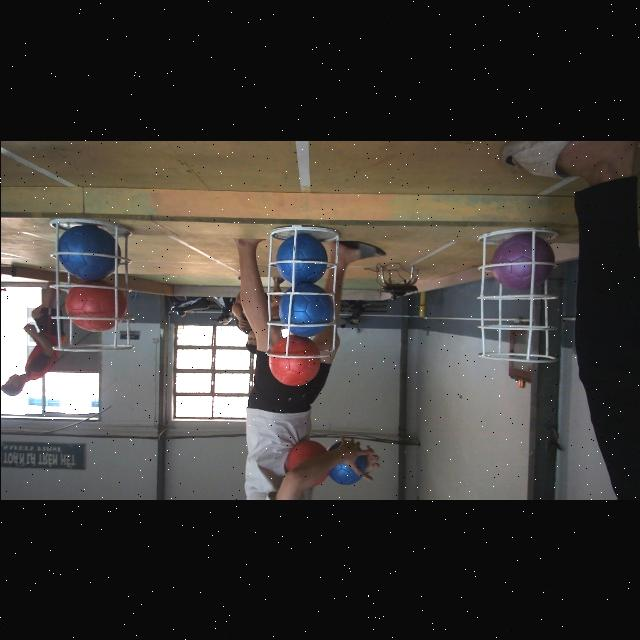B: (56, 222, 122, 280), (279, 282, 333, 336), (276, 234, 328, 282)
R: (64, 281, 126, 331), (268, 336, 320, 386)
